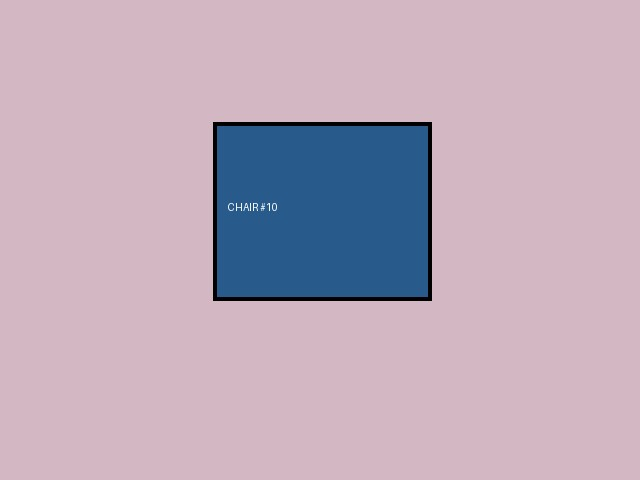chair: (213, 122, 431, 300)
